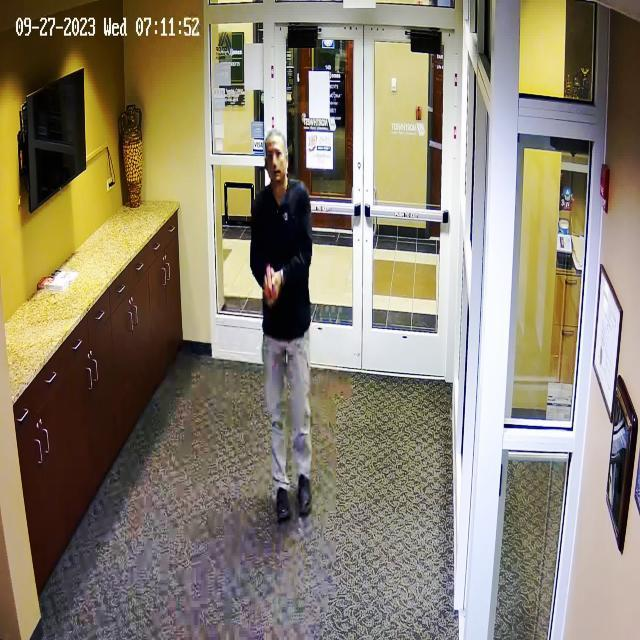Gun: (257, 261, 291, 310)
